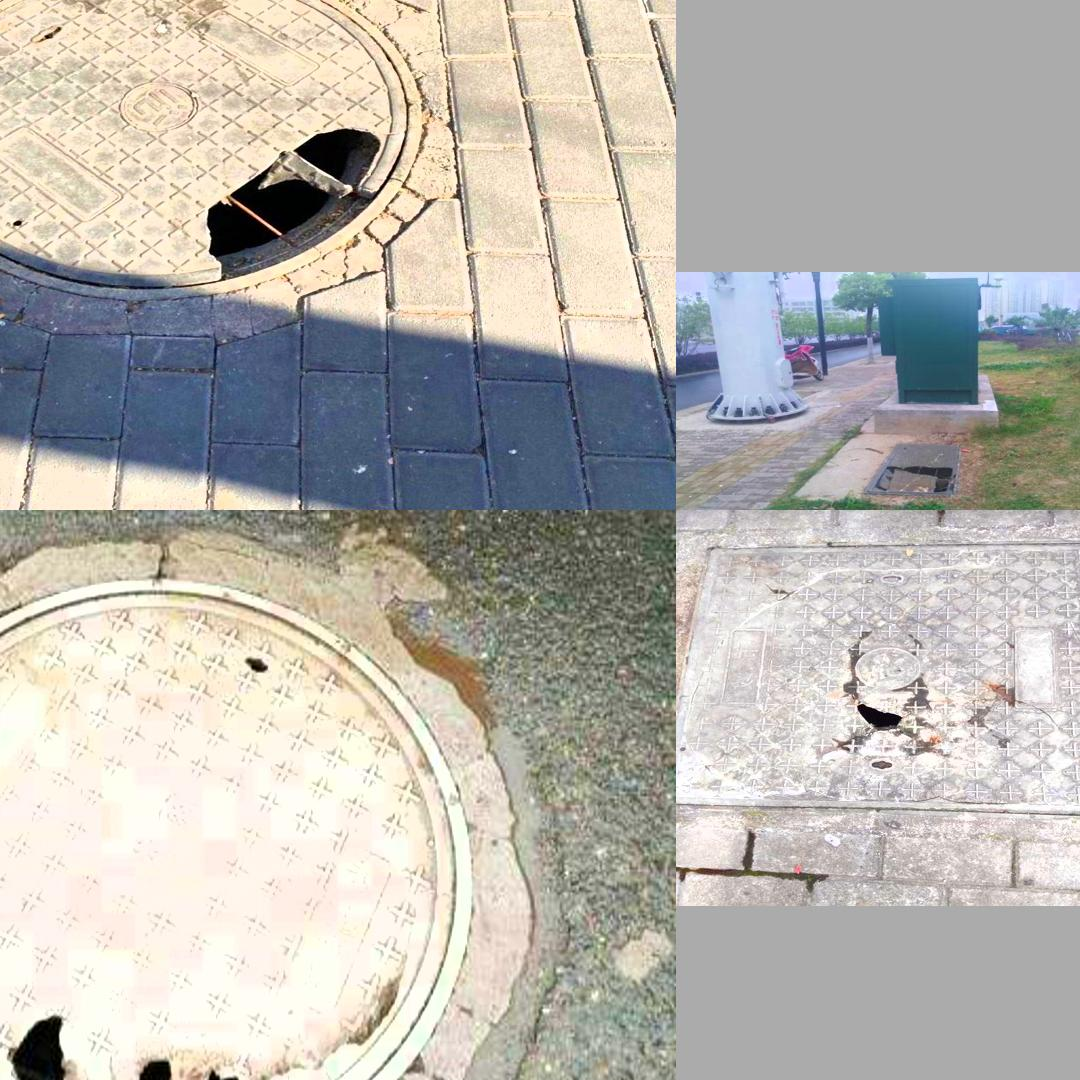broke: (0, 555, 564, 1080), (0, 0, 424, 301), (676, 523, 1080, 838), (861, 441, 961, 497)
